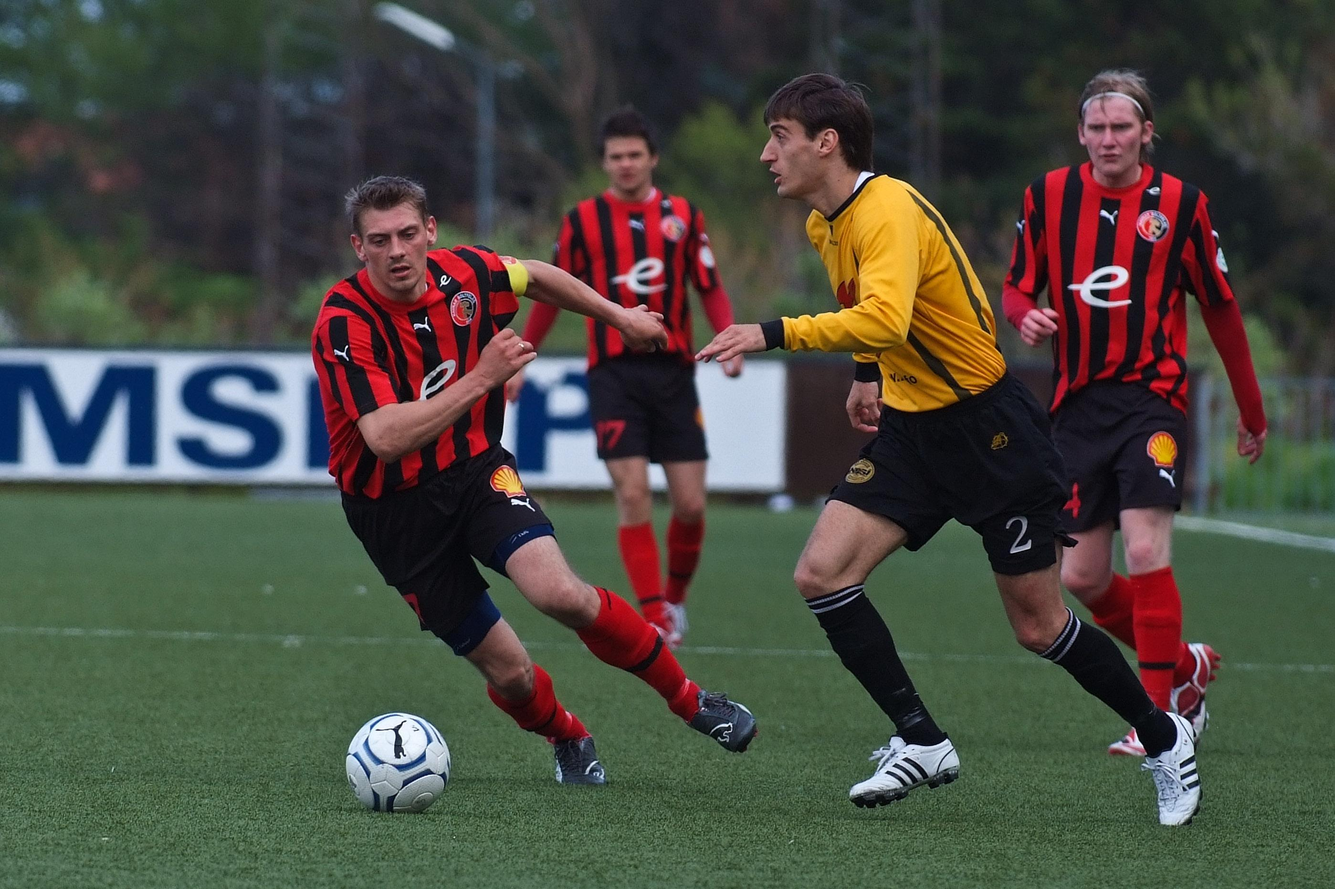ballon_football: (344, 709, 452, 816)
